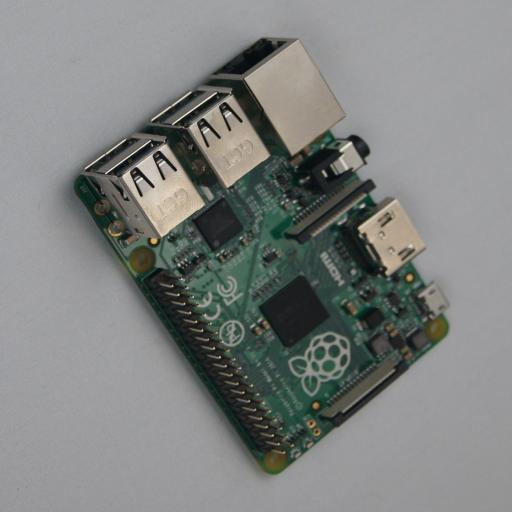Raspberry Pi 1 B-: (65, 38, 449, 474)
